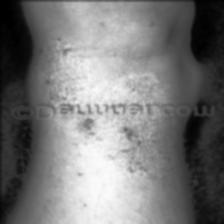Non-Cancerous Skin Condition: (42, 0, 177, 101), (45, 120, 174, 223)
